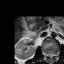CCS_normal: (50, 50, 52, 61)
LFS_normal: (54, 51, 56, 58)
LLS_normal: (52, 50, 54, 59)
RFS_normal: (45, 51, 47, 58)
RLS_normal: (47, 50, 50, 59)
